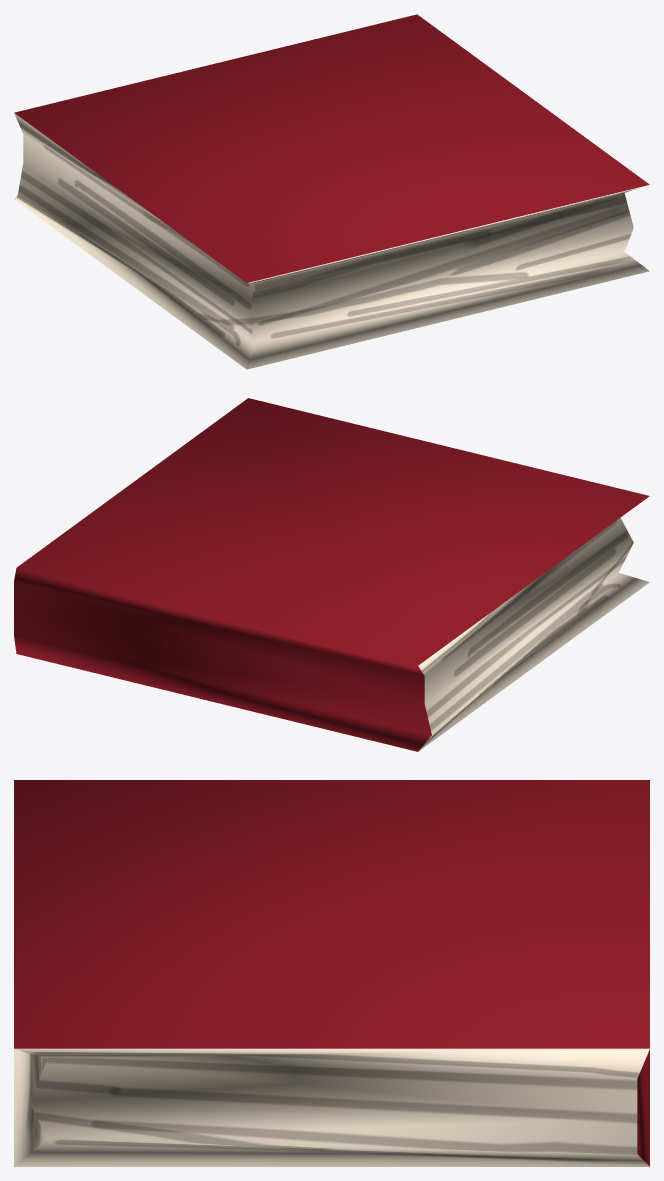
Rendered from book.dae.
3 views of the same model, one above another, from view 1: azimuth 30°, elevation 25°; view 2: azimuth 150°, elevation 25°; view 3: azimuth 270°, elevation 25° (orthographic). The views are drawn at different scales.
Parts seen in each view (by area): view 1: Cube; view 2: Cube; view 3: Cube.
Boxes of the visible parts, x1=… form: Cube: x1=14, y1=14, x2=649, y2=369; Cube: x1=14, y1=398, x2=649, y2=751; Cube: x1=14, y1=780, x2=649, y2=1166.
Size of the model in its own units: 2.17 by 2.11 by 0.432.
1 material, 1 textured.
